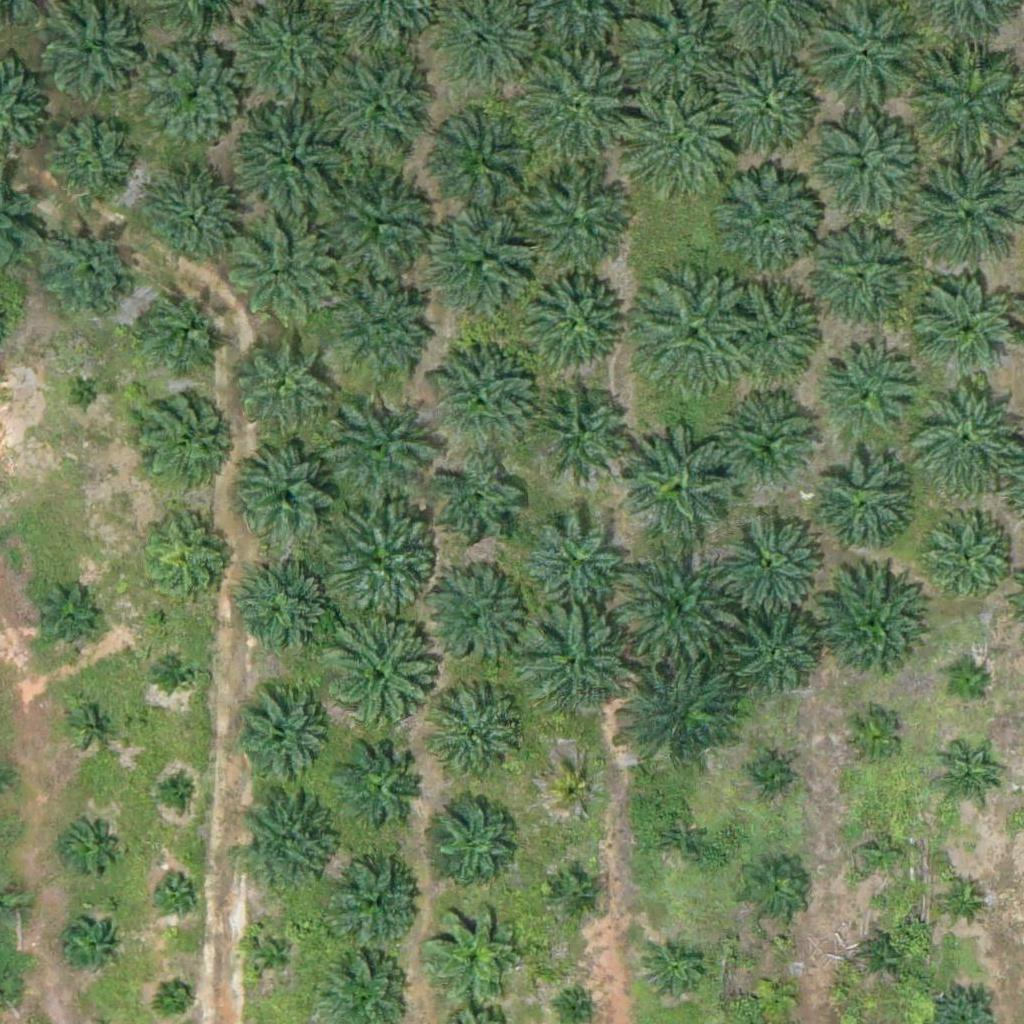Kelapa_Sawit: (226, 97, 351, 223), (317, 161, 442, 287), (513, 43, 638, 169), (621, 88, 746, 214), (704, 38, 829, 164), (700, 159, 825, 285), (802, 109, 927, 235), (629, 270, 754, 396), (614, 540, 739, 666), (622, 651, 747, 777), (315, 498, 440, 623), (315, 617, 440, 742), (813, 571, 926, 685), (322, 54, 435, 167), (522, 609, 635, 722), (427, 344, 540, 457), (324, 275, 437, 388), (321, 393, 434, 506), (714, 501, 826, 615), (624, 421, 736, 535), (429, 104, 541, 217), (518, 170, 630, 283), (226, 220, 338, 333), (42, 9, 142, 110), (146, 47, 246, 148), (142, 172, 242, 273), (918, 281, 1018, 382), (917, 508, 1017, 609), (806, 228, 906, 329), (818, 344, 918, 445), (720, 277, 820, 378), (526, 510, 626, 611), (430, 456, 530, 557), (425, 565, 525, 666), (228, 326, 328, 427), (239, 443, 339, 544), (236, 562, 336, 663), (233, 690, 333, 791), (131, 281, 231, 382), (133, 387, 233, 488), (138, 508, 238, 609), (423, 900, 523, 1001), (241, 792, 341, 893), (810, 453, 910, 553), (723, 392, 823, 492), (523, 272, 623, 372), (532, 380, 632, 480), (435, 216, 535, 316), (436, 694, 524, 783), (732, 612, 820, 700), (333, 858, 421, 946), (340, 745, 428, 833), (46, 226, 133, 315), (45, 119, 132, 207), (430, 790, 517, 878), (33, 589, 96, 652), (934, 751, 997, 814), (840, 705, 903, 768), (851, 822, 914, 885), (744, 860, 806, 923), (644, 939, 706, 1002), (60, 916, 122, 979), (648, 809, 710, 872), (861, 930, 911, 981), (63, 819, 113, 870), (937, 873, 987, 924), (741, 751, 791, 802), (750, 970, 800, 1021), (551, 868, 601, 918), (942, 661, 992, 711), (552, 768, 602, 818), (247, 930, 297, 980), (152, 866, 202, 916), (66, 377, 104, 415), (163, 655, 201, 693), (157, 772, 194, 810), (75, 705, 112, 743), (159, 976, 196, 1014), (566, 996, 591, 1021)
